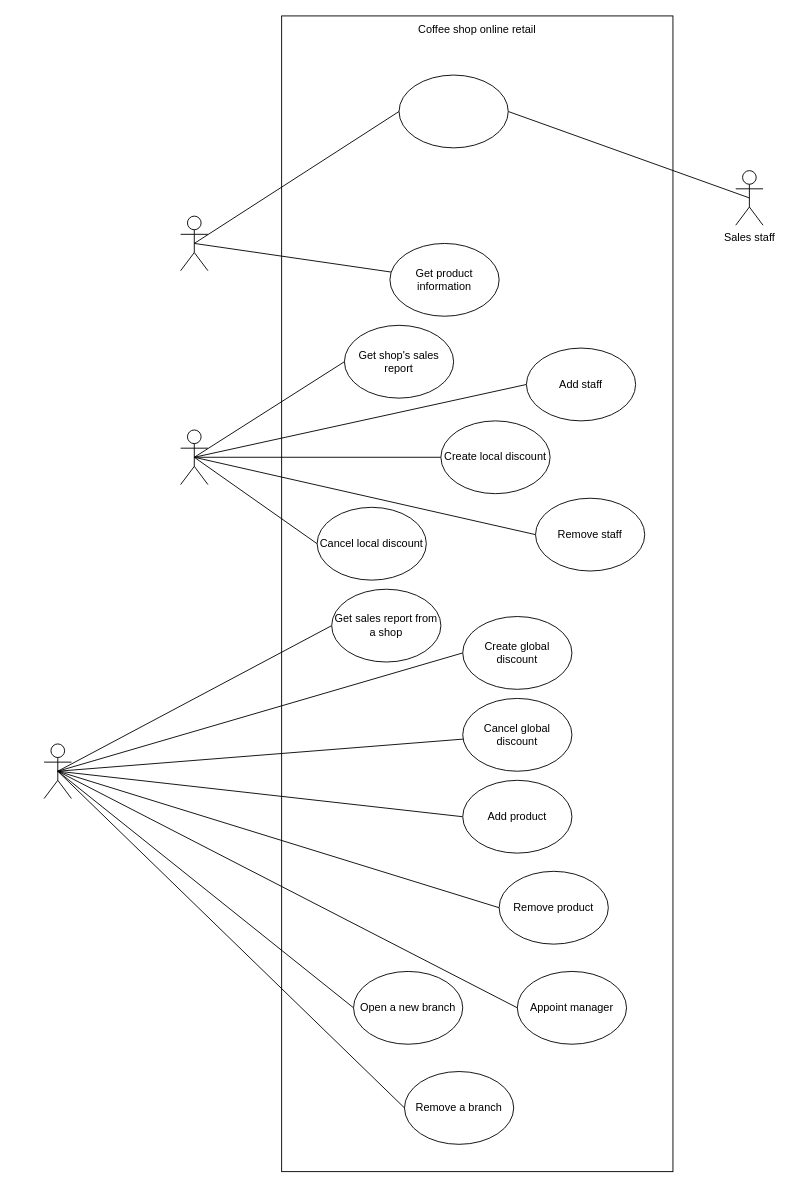
Some shapes in this 791 by 1188 pixel diagram are drawn without their labels. Each missing label, with the centre of its shape:
"Customer" goes at point 194,243.
"General manager" goes at point 57,771.
"Local manager" goes at point 194,457.
"Make payment" goes at point 453,111.
